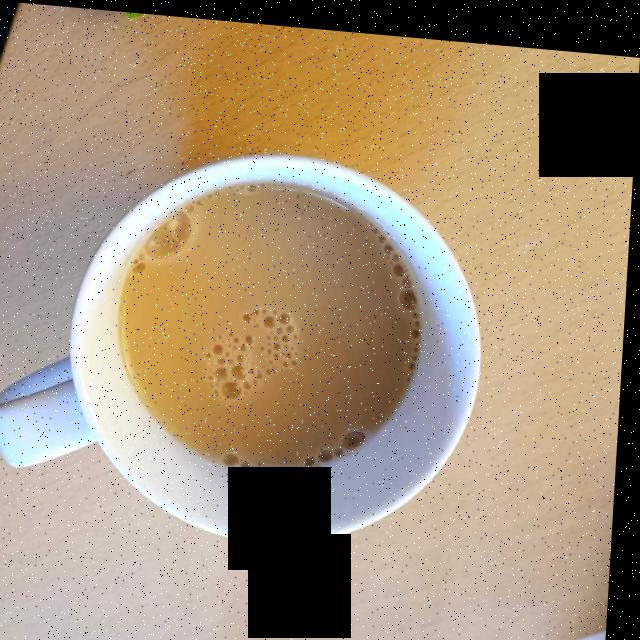tea-black: (125, 174, 402, 485), (126, 180, 430, 460)
